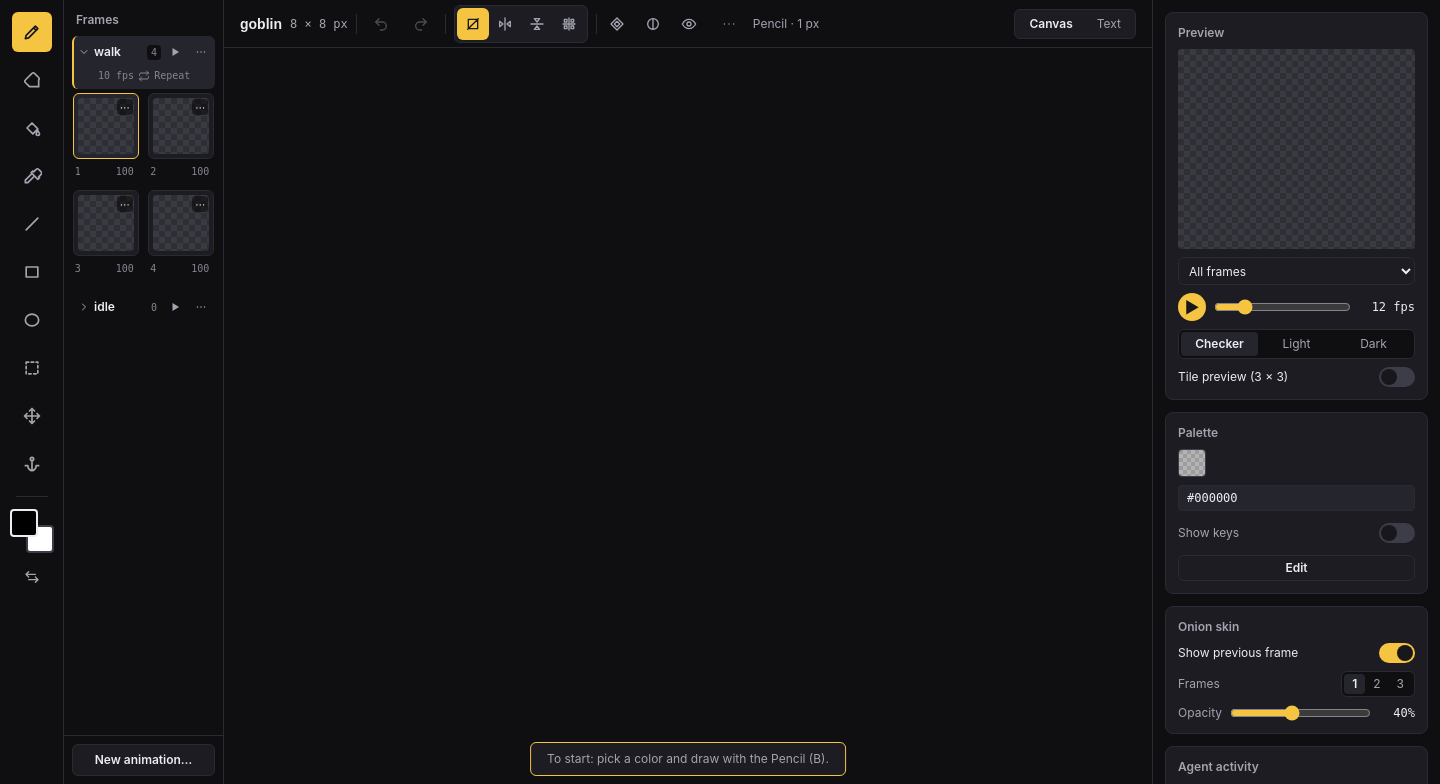
Preview › has a speed control from 1 to 60 fps
This screenshot has width=1440, height=784.
Later steps or results of the test are not shown.
Select "walk (4 fr.)" in the dropdown named "Animation": [1296, 271] box x1=1178 y1=257 x2=1415 y2=285
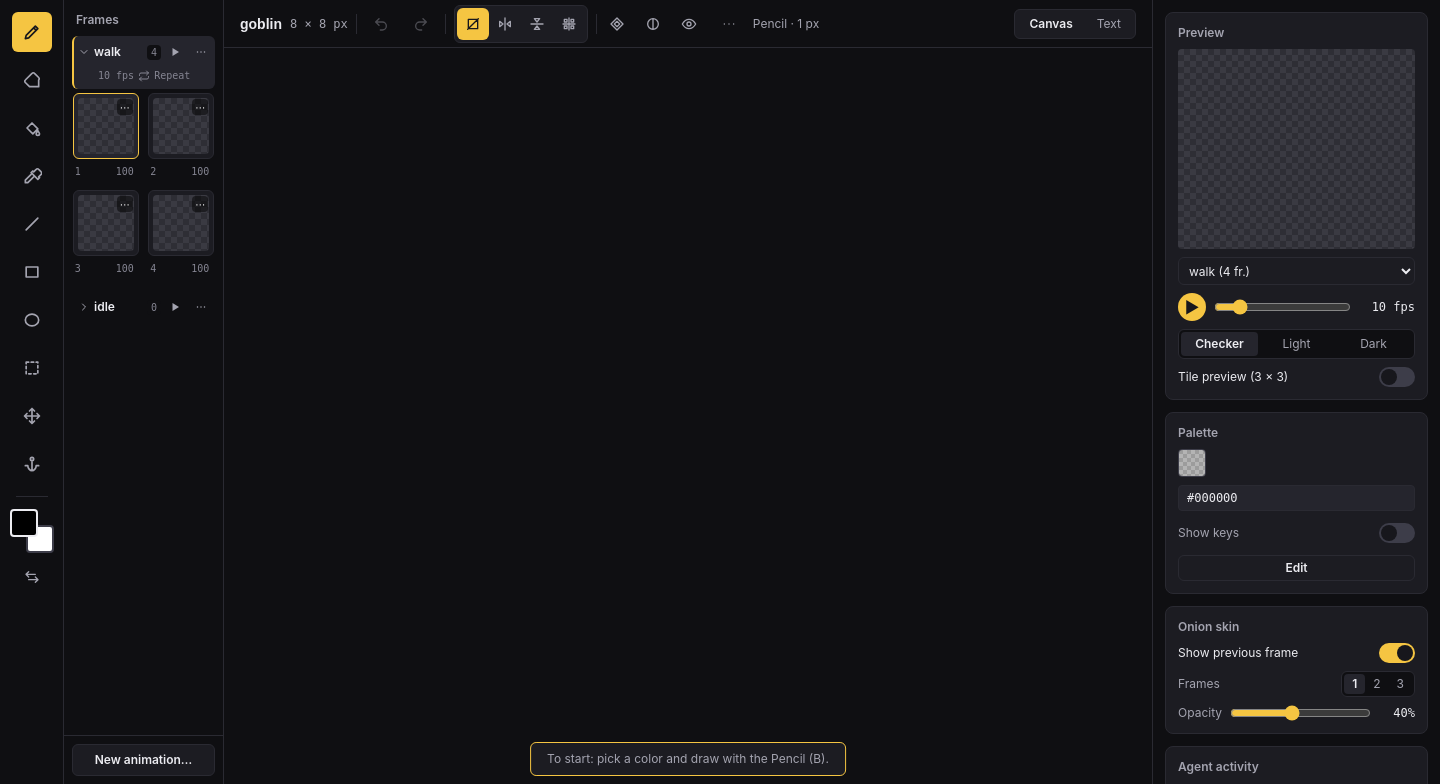
expect the button named "Play" is shown: met, box x1=1178 y1=293 x2=1206 y2=321
Set the slider named "Speed" to "20": [1261, 307] box x1=1214 y1=299 x2=1351 y2=315
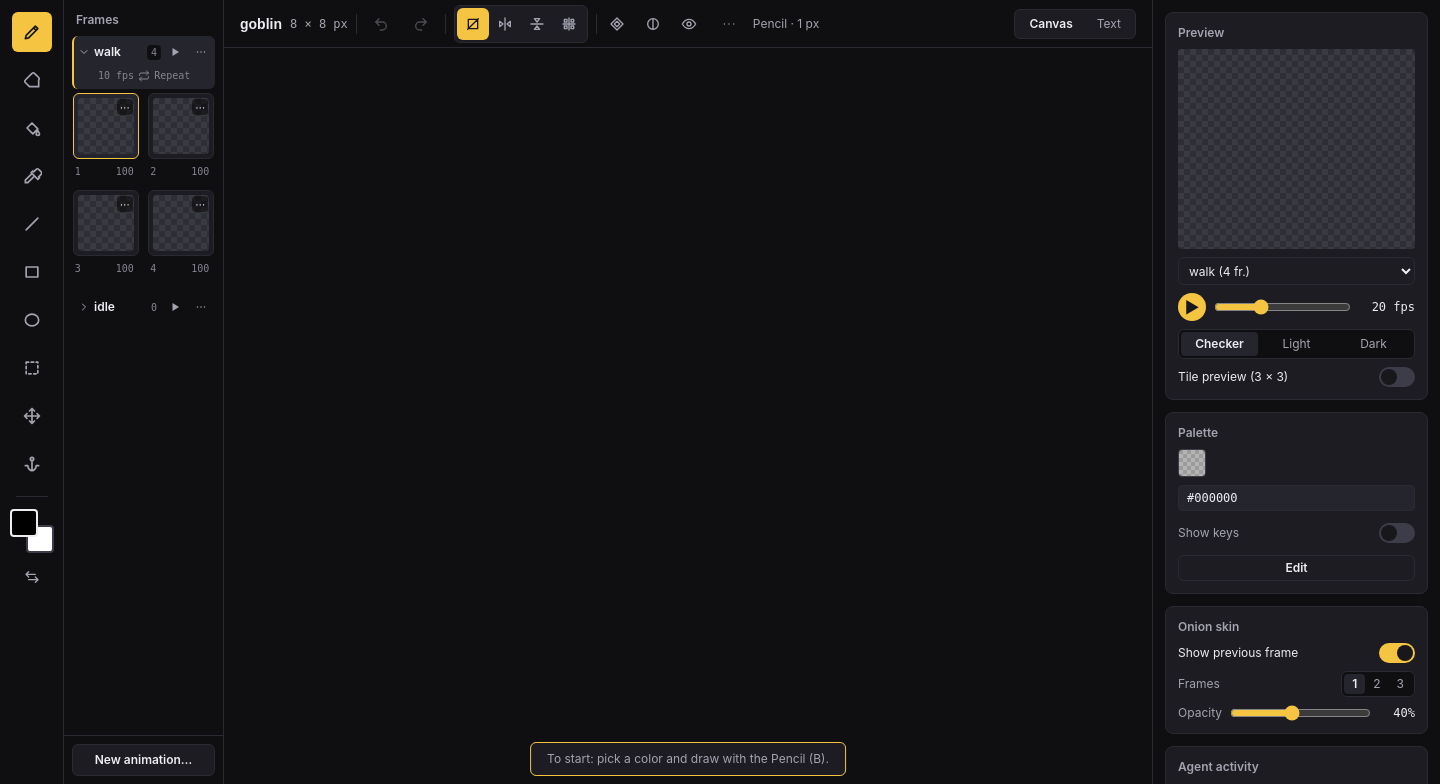
expect the text "20 fps" is shown: met, box x1=1372 y1=300 x2=1415 y2=314
